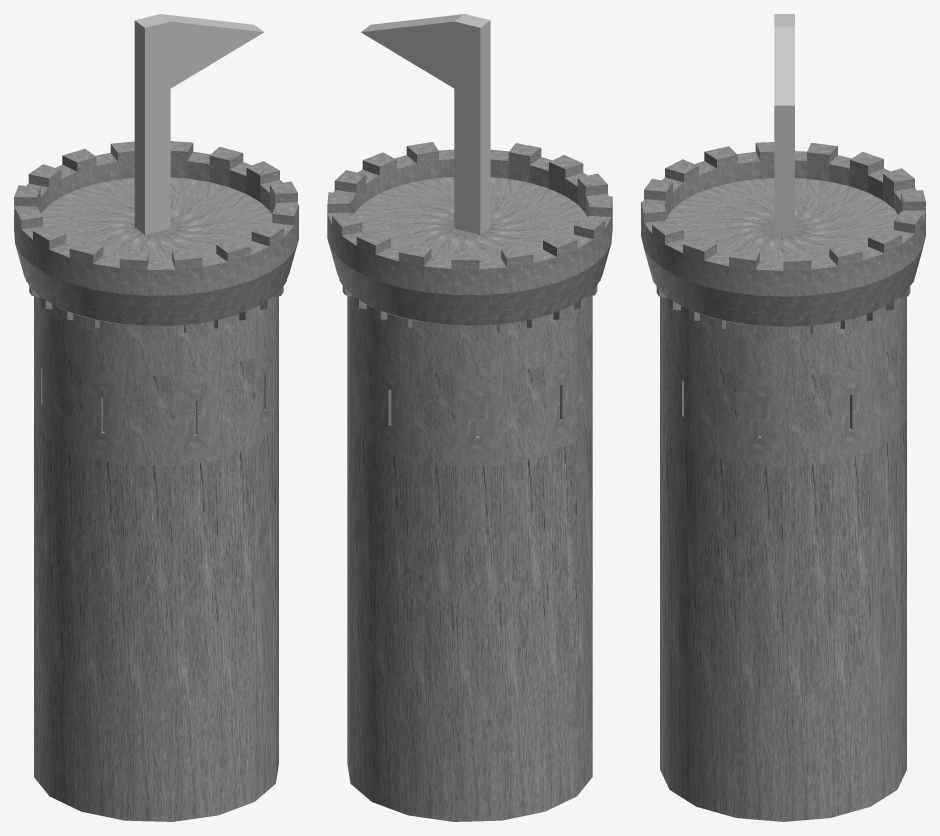
The model's file is torreAZUL.fbx.
The picture shows the model from 3 angles, left to right: view 1: azimuth 30°, elevation 25°; view 2: azimuth 150°, elevation 25°; view 3: azimuth 270°, elevation 25°; orthographic projection.
Visible parts, largest first — view 1: Cube; view 2: Cube; view 3: Cube.
Part boxes in pixels (bbox=[...]): Cube: bbox=[14, 14, 298, 821]; Cube: bbox=[327, 14, 612, 821]; Cube: bbox=[641, 14, 925, 821].
Size of the model in its own units: 893 by 2588 by 893.
